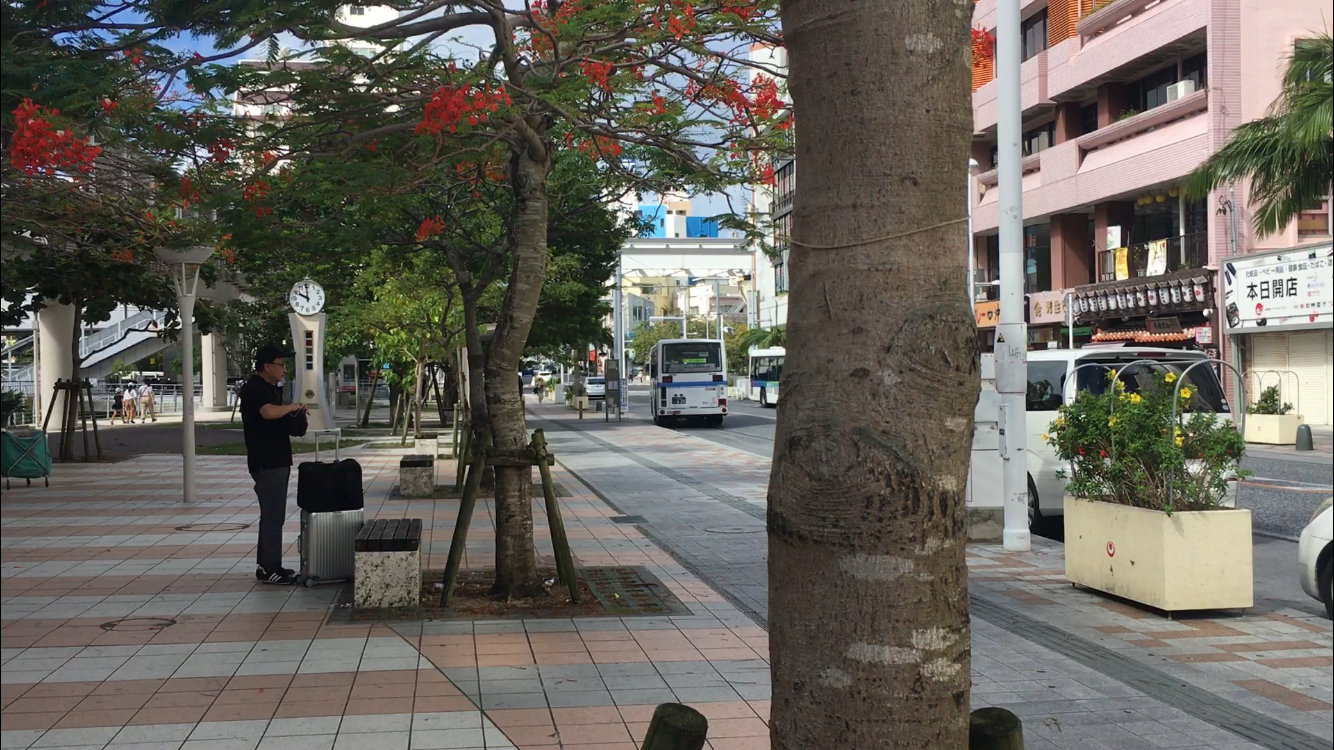car: (646, 347, 726, 422), (696, 378, 754, 421), (729, 361, 770, 408), (596, 366, 619, 398), (542, 370, 570, 391)
person: (226, 348, 309, 578), (124, 382, 142, 420)
potted plant: (1038, 358, 1256, 616)
